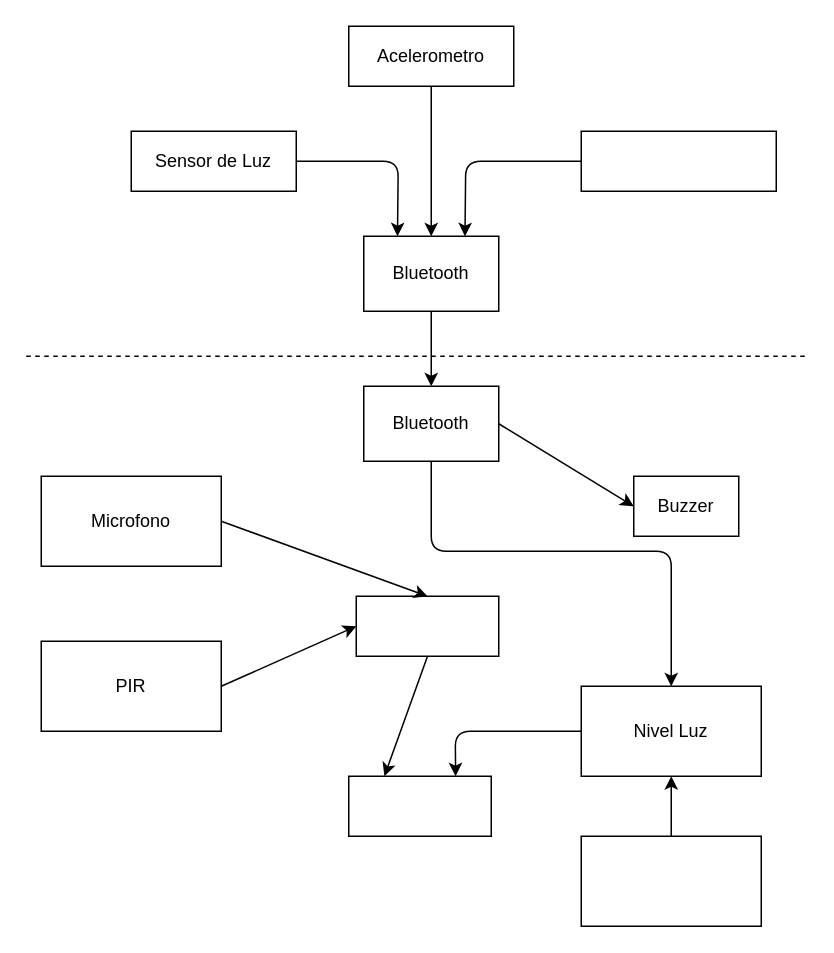
The diagram is 834 pixels wide and 953 high, and some of its shapes have lost their labels. The centre of each missing label's shape, as x and y in pixels:
"Cambiar Estado" goes at (427,625).
"LDR" goes at (670,880).
"LED" goes at (419,805).
"Sensor de Proximidad" goes at (678,160).
